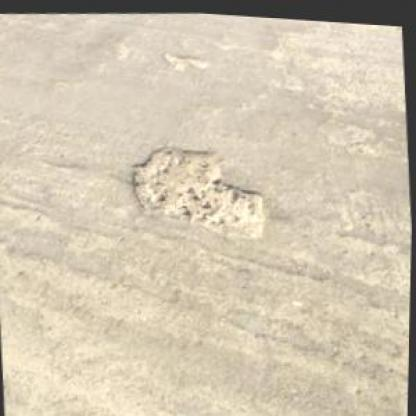pothole: (128, 128, 273, 244), (159, 47, 211, 69)
